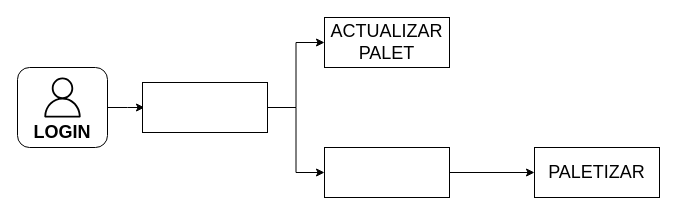
Some shapes in this 677 by 215 pixel diagram are drawn without their labels. The box of each missing label's shape, as (x1, y1, x2, y2) in pixels:
GESTIÓN PEDIDOS: (324, 146, 450, 198)
VENTANA PRINCIPAL: (142, 82, 268, 132)
